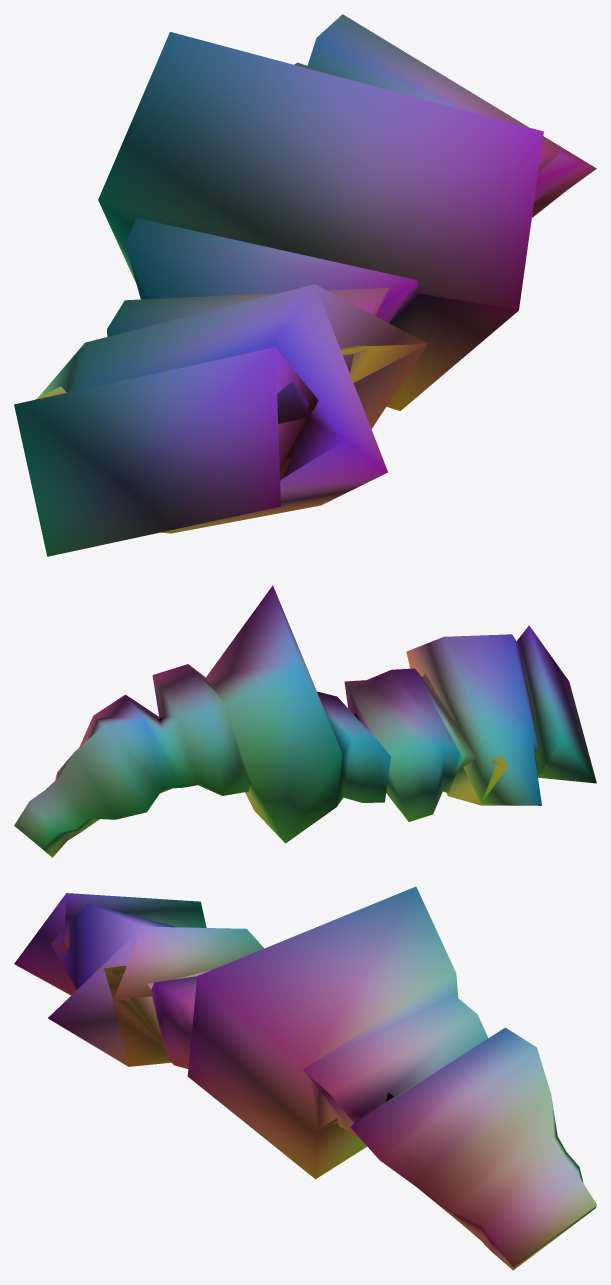
File: SM_Mon_Deserter_Att_TagChain.fbx
3 renders of one model, top to bottom at view 1: azimuth 30°, elevation 25°; view 2: azimuth 150°, elevation 25°; view 3: azimuth 270°, elevation 25°, orthographic. The views are drawn at different scales.
Parts seen in each view (by area): view 1: SM_Mon_Deserter_Att_TagChain; view 2: SM_Mon_Deserter_Att_TagChain; view 3: SM_Mon_Deserter_Att_TagChain.
Boxes of the visible parts, <box> form: SM_Mon_Deserter_Att_TagChain: <box>14,14,596,556</box>; SM_Mon_Deserter_Att_TagChain: <box>14,585,596,857</box>; SM_Mon_Deserter_Att_TagChain: <box>14,886,596,1270</box>.
Size of the model in its own units: 0.3245 by 0.161 by 0.3243.
